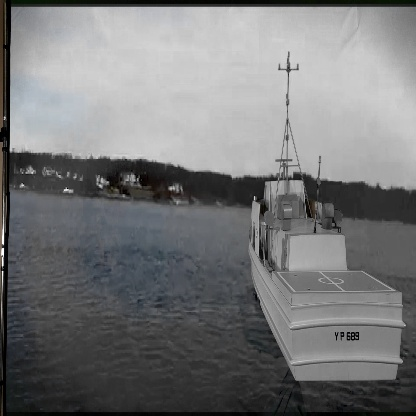YP689: (248, 52, 405, 382)
